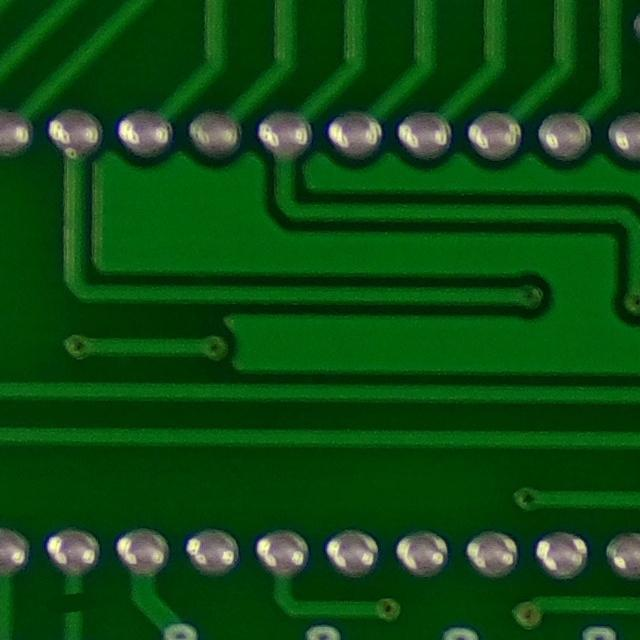open_circuit: (55, 585, 96, 621)
